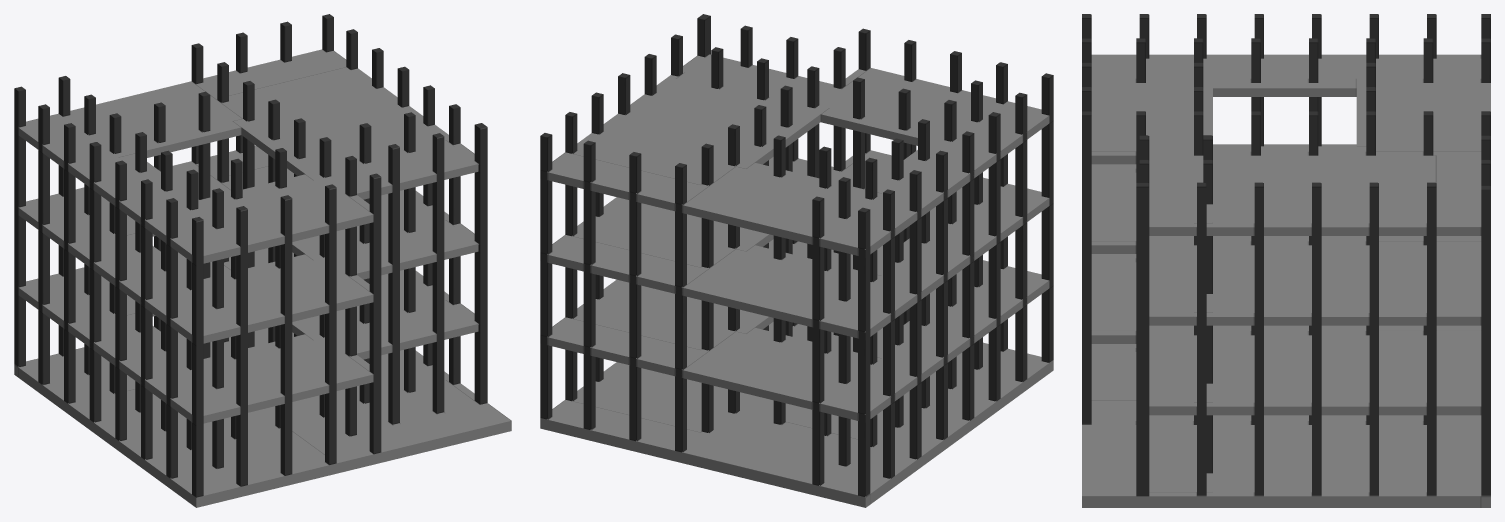
File: plac_budowy1.dae
3 renders of one model, left to right at view 1: azimuth 30°, elevation 25°; view 2: azimuth 150°, elevation 25°; view 3: azimuth 270°, elevation 25°, orthographic. The views are drawn at different scales.
Visible parts, largest first — view 1: Content; view 2: Content; view 3: Content.
Part boxes in pixels (box(x1,y1,x2,y2)): Content: box(14, 14, 511, 507); Content: box(540, 14, 1053, 507); Content: box(1082, 14, 1490, 507).
Size of the model in its own units: 128 by 111 by 128.
1 material, 1 textured.
